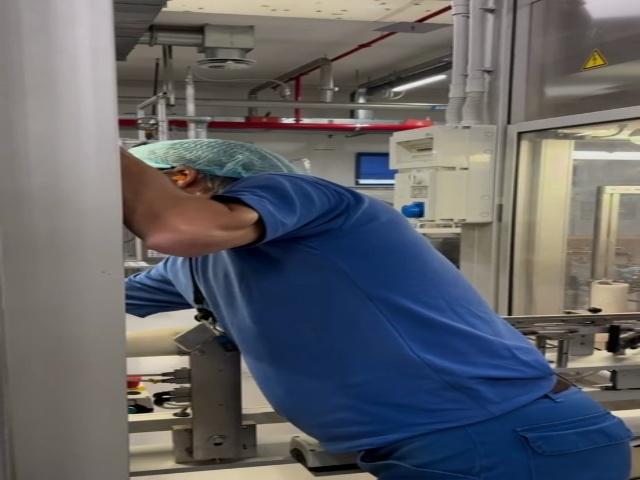Earplug: (169, 167, 197, 187)
Hairnet: (131, 139, 302, 177)
No_Helmet: (130, 141, 303, 176)
No_Vest: (197, 176, 559, 433)
Person: (133, 138, 555, 480)
